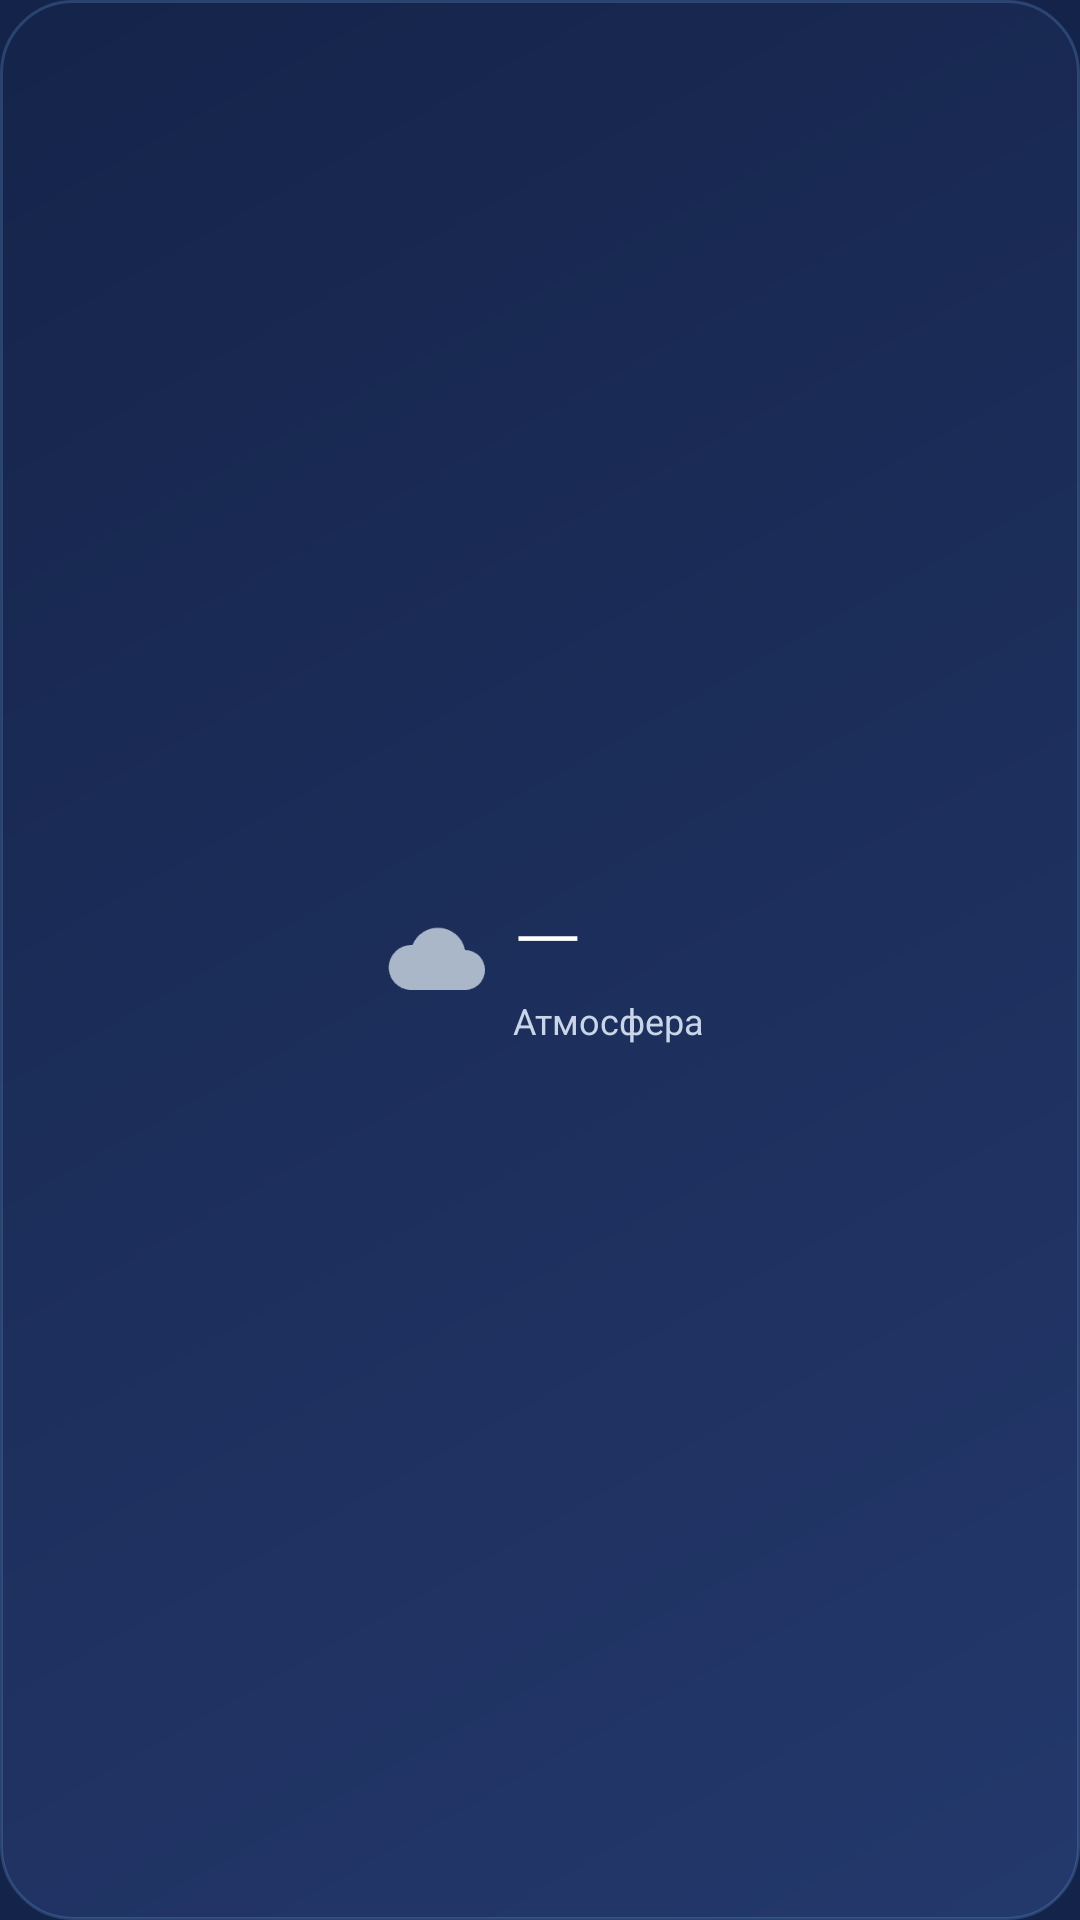

Icons on this 1080w x 1920h Android screen, each with the point to tap as point (x, y):
Погода: point (436, 958)
